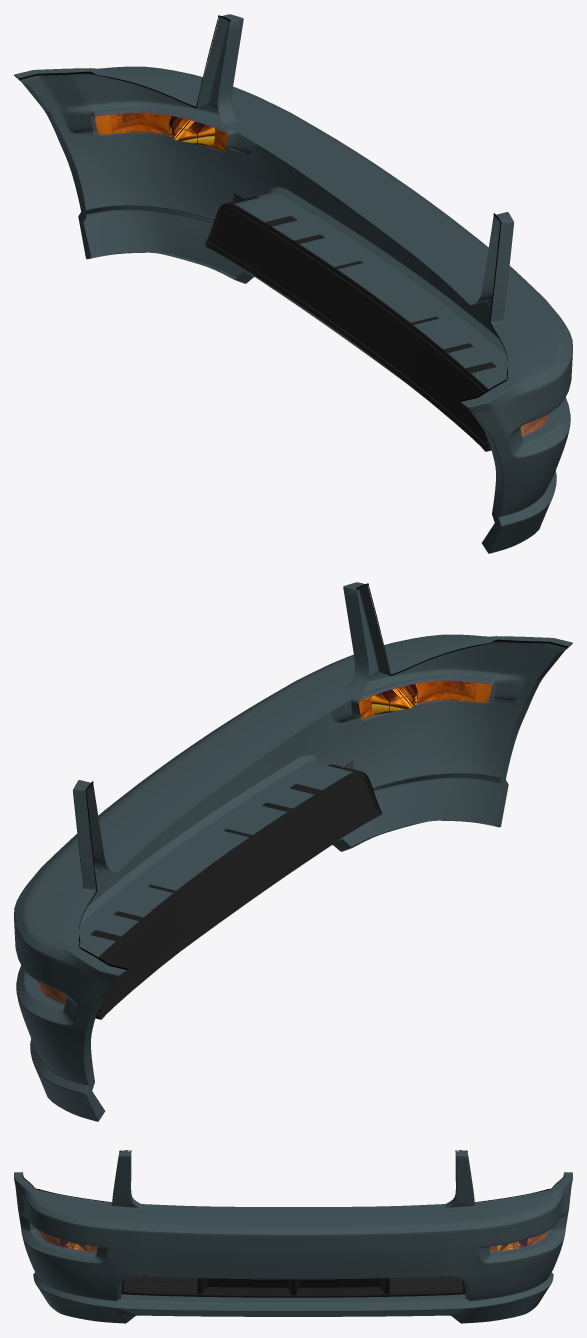
3 renders of one model, top to bottom at view 1: azimuth 30°, elevation 25°; view 2: azimuth 150°, elevation 25°; view 3: azimuth 270°, elevation 25°, orthographic. The views are drawn at different scales.
Visible parts, largest first — view 1: P222_15_021G_C_P222_15_021G_C_5_DaS, P222_15_021G_C_P222_15_021G_C_4_D, P222_15_021G_C_P222_15_021G_C_2_N, P222_15_021G_C_P222_15_021G_C_5_DaS_E, P222_15_021G_C_P222_15_021G_C_7_D; view 2: P222_15_021G_C_P222_15_021G_C_5_DaS, P222_15_021G_C_P222_15_021G_C_4_D, P222_15_021G_C_P222_15_021G_C_2_N, P222_15_021G_C_P222_15_021G_C_5_DaS_E, P222_15_021G_C_P222_15_021G_C_7_D; view 3: P222_15_021G_C_P222_15_021G_C_5_DaS, P222_15_021G_C_P222_15_021G_C_4_D, P222_15_021G_C_P222_15_021G_C_3_D, P222_15_021G_C_P222_15_021G_C_5_DaS_E, P222_15_021G_C_P222_15_021G_C_2_N, P222_15_021G_C_1_DTaSI_P222_15_021G_C, P222_15_021G_C_P222_15_021G_C_6_DTaSI, P222_15_021G_C_P222_15_021G_C_7_D.
Part boxes in pixels (x1,y1,x2,y2): P222_15_021G_C_P222_15_021G_C_5_DaS: (14,14,572,553); P222_15_021G_C_P222_15_021G_C_4_D: (204,196,496,451); P222_15_021G_C_P222_15_021G_C_2_N: (95,112,549,436); P222_15_021G_C_P222_15_021G_C_5_DaS_E: (86,107,562,526); P222_15_021G_C_P222_15_021G_C_7_D: (19,15,508,401); P222_15_021G_C_P222_15_021G_C_5_DaS: (14,582,572,1121); P222_15_021G_C_P222_15_021G_C_4_D: (90,764,382,1019); P222_15_021G_C_P222_15_021G_C_2_N: (37,680,491,1004); P222_15_021G_C_P222_15_021G_C_5_DaS_E: (24,675,500,1094); P222_15_021G_C_P222_15_021G_C_7_D: (78,583,567,969); P222_15_021G_C_P222_15_021G_C_5_DaS: (14,1151,572,1323); P222_15_021G_C_P222_15_021G_C_4_D: (121,1278,465,1297); P222_15_021G_C_P222_15_021G_C_3_D: (123,1276,463,1291); P222_15_021G_C_P222_15_021G_C_5_DaS_E: (30,1223,556,1311); P222_15_021G_C_P222_15_021G_C_2_N: (37,1230,549,1252); P222_15_021G_C_1_DTaSI_P222_15_021G_C: (36,1229,96,1252); P222_15_021G_C_P222_15_021G_C_6_DTaSI: (490,1229,550,1252); P222_15_021G_C_P222_15_021G_C_7_D: (22,1150,564,1202).
Size of the model in its own units: 42.24 by 56.9 by 172.
